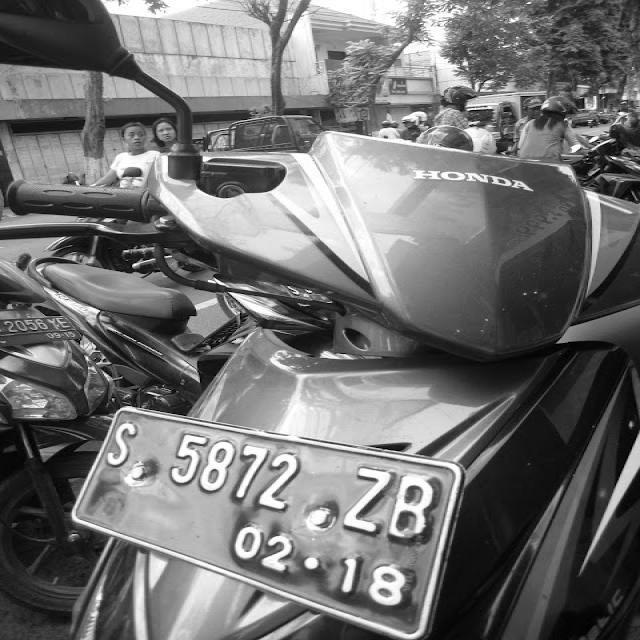2: (248, 446, 309, 520)
5: (162, 429, 212, 489)
7: (222, 440, 276, 510)
8: (194, 436, 244, 499)
B: (382, 466, 454, 562)
S: (93, 415, 152, 483)
Z: (335, 459, 402, 548)
